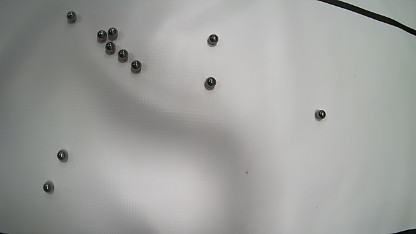ironball: (204, 77, 216, 90), (105, 41, 116, 55), (107, 27, 118, 40), (96, 30, 107, 43), (117, 49, 128, 62), (130, 60, 141, 73), (43, 181, 54, 194), (57, 149, 68, 162), (207, 34, 218, 46), (315, 109, 326, 120), (66, 11, 76, 23)
